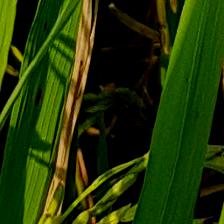2 BacterialBlight: (51, 4, 97, 203)
